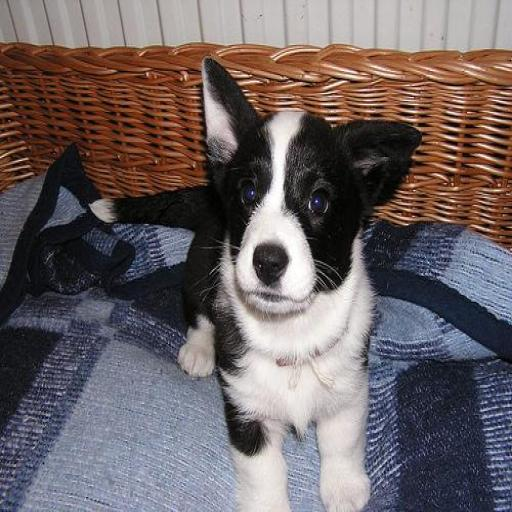dog_face: (210, 64, 414, 303)
